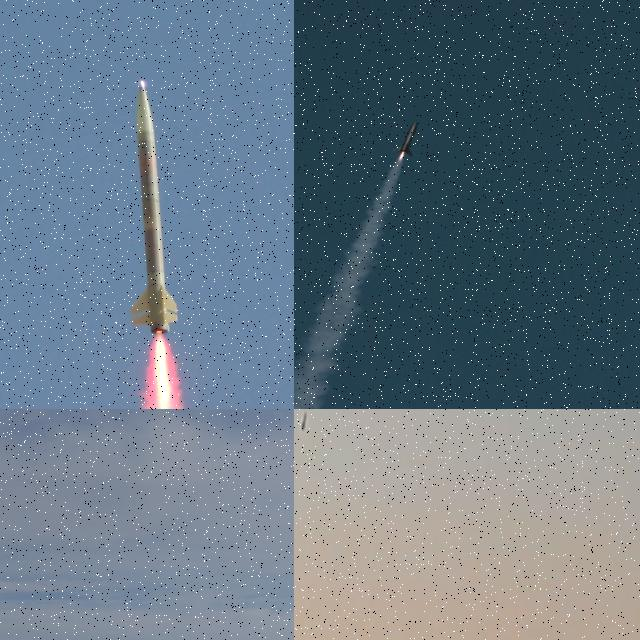Rocket: (129, 80, 181, 335), (392, 121, 418, 157), (301, 411, 307, 430)
